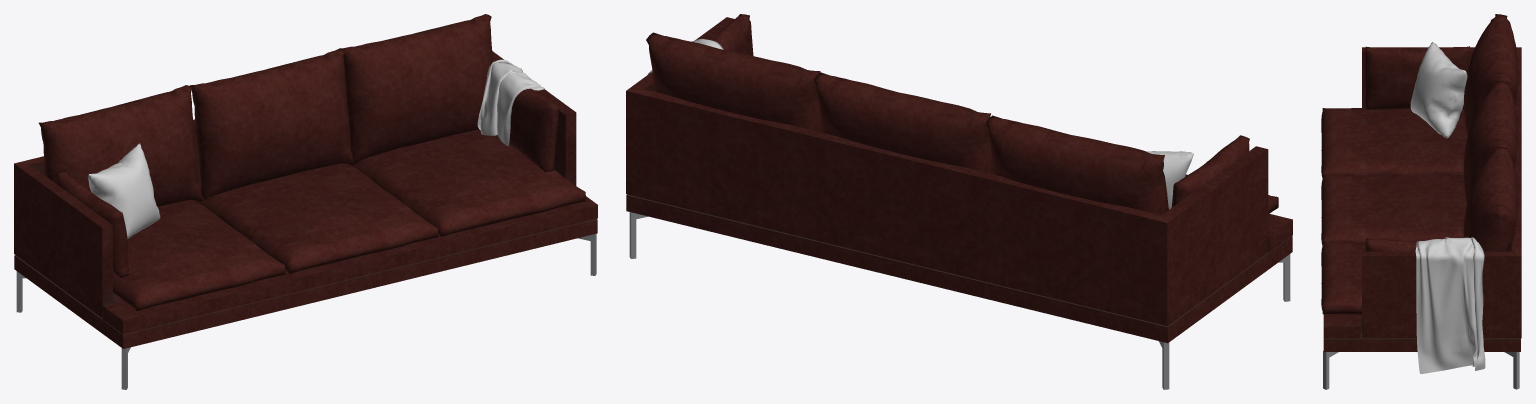
Rendered from couch.gltf.
3 renders of one model, left to right at view 1: azimuth 30°, elevation 25°; view 2: azimuth 150°, elevation 25°; view 3: azimuth 270°, elevation 25°, orthographic. The views are drawn at different scales.
Parts seen in each view (by area): view 1: couch; view 2: couch; view 3: couch.
Boxes of the visible parts, x1,y1,x2,y2 form: couch: (14,14,597,389); couch: (626,14,1292,389); couch: (1321,14,1521,389).
Bounding box in the file's own units: 307 × 115 × 120.
